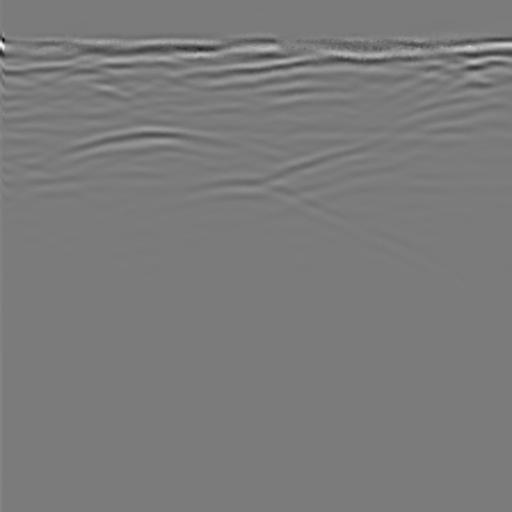hyperbola: (20, 111, 308, 224)
